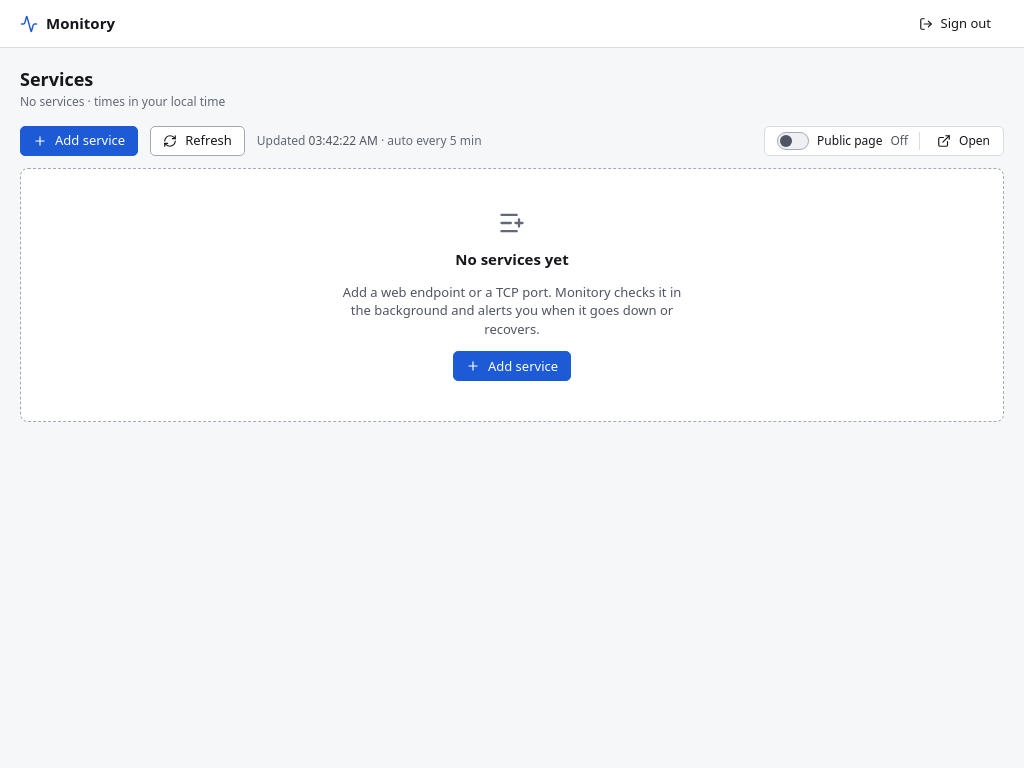
Test: The dashboard’s public page switch (FR-26) › a toggle answered 401 ends on the sign-in form with the notice and no toast
The image size is (1024, 768).
Step 1. Click the switch named "Public page" → {"x": 793, "y": 141}, box [777,132,809,150]
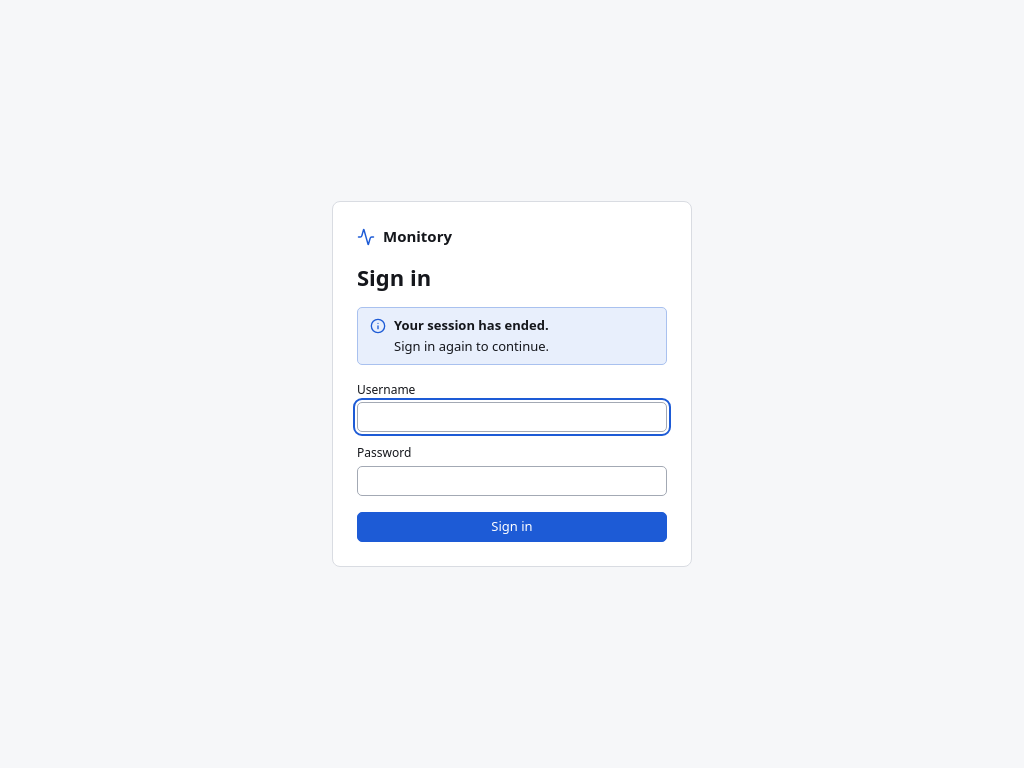
Now the text "Your session has ended." is shown, box [394,316,549,334]
Now the text "Couldn’t turn the public page" is gone
